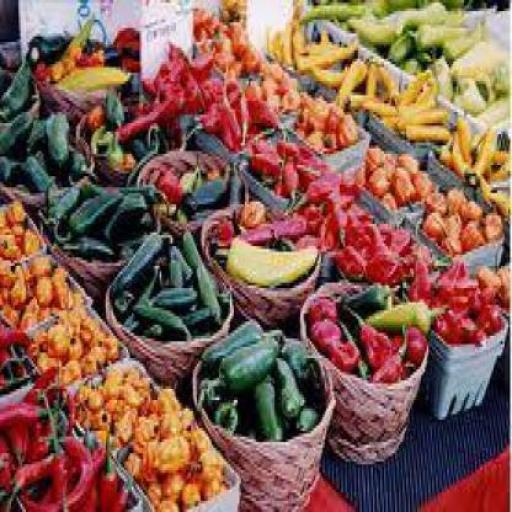biodegradable: (12, 444, 95, 510), (210, 232, 316, 278), (202, 316, 278, 374), (108, 226, 173, 292), (343, 0, 445, 39), (218, 333, 280, 392), (52, 190, 120, 238), (344, 302, 392, 370), (362, 296, 445, 333), (115, 90, 173, 136), (50, 14, 92, 76), (124, 265, 162, 333), (368, 319, 406, 384), (47, 408, 70, 510), (168, 42, 202, 109), (4, 456, 58, 498), (134, 300, 188, 342), (280, 333, 318, 392), (50, 64, 130, 90), (336, 278, 395, 313), (0, 92, 36, 148), (252, 375, 282, 442), (52, 174, 90, 224), (43, 106, 70, 176), (102, 184, 143, 230), (449, 39, 501, 75), (184, 168, 228, 210), (240, 210, 304, 238), (32, 44, 100, 70), (195, 254, 221, 320), (408, 19, 473, 45), (145, 434, 187, 473), (0, 58, 28, 115), (26, 409, 66, 448), (293, 170, 337, 205), (446, 17, 484, 56), (19, 361, 59, 397), (98, 442, 119, 509), (275, 352, 299, 409), (67, 235, 115, 263), (397, 324, 429, 366), (293, 45, 354, 67), (80, 439, 100, 506), (247, 94, 282, 132), (475, 170, 508, 210), (151, 282, 196, 311), (195, 369, 226, 411), (0, 400, 50, 426), (367, 244, 408, 274), (469, 126, 493, 177), (333, 56, 362, 98), (332, 240, 364, 278), (24, 33, 65, 62), (399, 118, 453, 140), (87, 120, 119, 157), (308, 316, 342, 350), (394, 65, 426, 100), (347, 207, 369, 257), (130, 408, 156, 450), (113, 25, 137, 70), (388, 107, 443, 126), (0, 321, 28, 358), (453, 76, 482, 111), (166, 241, 192, 280), (370, 0, 460, 11), (180, 299, 215, 327), (216, 104, 238, 148), (358, 94, 395, 120), (473, 285, 497, 325), (190, 448, 219, 481), (24, 151, 52, 185), (113, 403, 139, 439), (214, 392, 240, 428), (475, 263, 501, 299), (408, 252, 430, 294), (428, 53, 450, 95), (434, 255, 460, 290), (366, 159, 392, 193), (330, 336, 354, 372), (57, 433, 86, 462), (152, 58, 178, 90), (67, 140, 91, 174), (280, 19, 297, 67), (158, 165, 180, 202), (306, 293, 334, 322), (410, 170, 438, 199), (20, 291, 46, 322), (300, 3, 373, 14), (313, 206, 334, 244), (235, 196, 263, 224), (384, 28, 412, 56), (447, 277, 477, 303), (44, 321, 66, 356), (6, 260, 24, 302), (448, 132, 466, 174), (60, 352, 82, 386), (390, 165, 412, 199), (293, 400, 317, 431), (195, 101, 219, 132), (290, 8, 309, 47), (115, 378, 141, 406), (176, 478, 201, 507), (384, 226, 409, 255), (180, 224, 200, 260), (137, 386, 158, 420), (446, 306, 468, 338), (372, 64, 394, 96), (367, 221, 386, 258), (190, 51, 216, 78), (102, 92, 124, 123), (330, 204, 347, 244), (0, 436, 11, 496), (213, 36, 234, 67), (454, 114, 468, 160), (156, 383, 178, 412), (188, 423, 206, 458), (33, 266, 52, 299), (121, 448, 145, 474), (98, 366, 122, 392), (162, 467, 184, 495), (458, 212, 479, 241), (115, 470, 130, 510), (321, 190, 351, 210), (345, 204, 375, 224), (312, 64, 342, 84), (249, 151, 280, 170), (282, 151, 295, 196), (156, 408, 178, 434), (134, 182, 160, 204), (480, 212, 502, 238), (419, 209, 441, 235), (236, 89, 246, 146), (336, 109, 356, 137), (304, 204, 329, 226), (476, 72, 501, 94), (198, 470, 219, 496), (0, 152, 21, 178), (176, 165, 197, 191), (200, 76, 221, 102), (235, 44, 256, 70), (297, 163, 325, 182), (123, 364, 147, 386), (220, 79, 242, 103), (486, 157, 510, 179), (0, 296, 18, 325), (217, 0, 243, 20), (6, 426, 22, 458), (82, 308, 100, 336), (52, 277, 70, 305), (499, 263, 510, 308), (100, 330, 119, 356), (24, 252, 50, 271), (323, 104, 342, 130), (417, 74, 436, 100), (491, 61, 508, 90), (34, 347, 56, 369), (128, 128, 150, 150), (460, 316, 482, 338), (192, 8, 214, 30), (166, 252, 182, 282), (144, 472, 162, 498), (4, 196, 22, 222), (214, 212, 232, 238), (230, 17, 243, 53), (366, 144, 384, 170), (444, 187, 462, 213), (337, 174, 358, 196), (395, 152, 416, 174), (276, 70, 294, 95), (87, 341, 104, 367), (0, 226, 17, 252), (113, 288, 133, 310), (294, 145, 316, 165), (178, 403, 192, 434), (66, 392, 76, 434), (442, 210, 456, 240), (347, 92, 377, 106), (321, 128, 340, 150), (267, 28, 286, 50), (71, 285, 87, 311), (364, 61, 378, 90), (425, 190, 445, 210), (458, 199, 479, 218), (154, 492, 176, 510), (84, 101, 102, 123), (380, 184, 395, 210), (89, 406, 109, 425), (275, 140, 295, 159), (146, 316, 168, 333), (306, 126, 323, 148), (293, 109, 310, 131), (398, 56, 420, 73), (310, 94, 324, 120), (75, 322, 94, 341), (58, 308, 77, 327), (64, 333, 82, 353), (440, 232, 458, 252), (298, 90, 314, 112), (20, 227, 38, 246), (274, 165, 284, 199), (354, 156, 367, 182), (251, 137, 275, 151), (116, 148, 134, 166), (84, 384, 98, 406), (33, 330, 47, 352), (0, 264, 14, 286), (136, 208, 150, 230), (492, 143, 510, 160), (226, 59, 242, 78), (78, 176, 98, 191), (282, 90, 300, 106), (28, 333, 41, 355), (211, 20, 228, 36), (113, 436, 128, 454), (438, 140, 452, 159), (104, 140, 120, 154), (262, 79, 276, 95), (269, 62, 280, 81), (104, 394, 115, 412), (382, 151, 396, 165), (269, 97, 282, 112), (199, 24, 211, 40), (8, 219, 18, 238), (415, 48, 434, 58), (256, 53, 267, 70), (76, 386, 84, 408), (245, 80, 256, 96), (1, 347, 9, 367), (315, 34, 329, 45), (1, 283, 9, 302), (218, 288, 228, 303), (52, 263, 65, 274)
paper: (139, 0, 193, 68)
